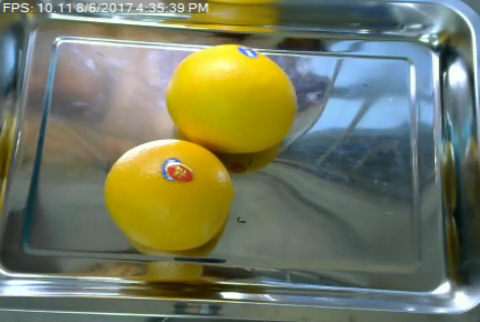Orange: (103, 138, 232, 252), (165, 43, 297, 153)
